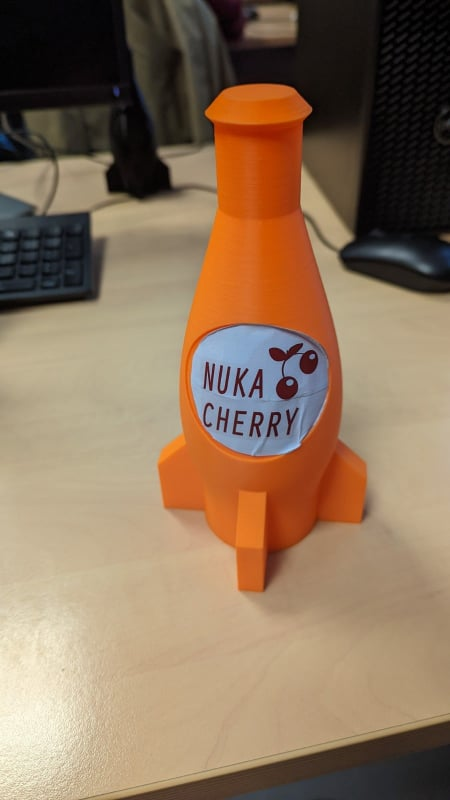bottle: (151, 77, 374, 601)
